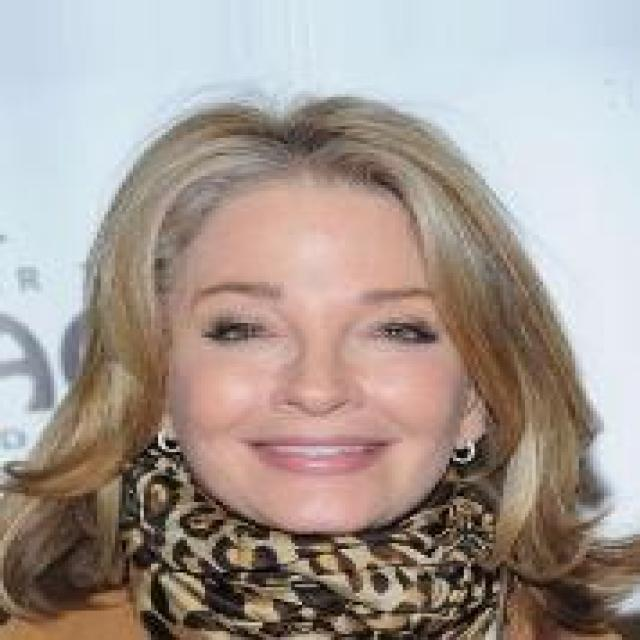bareface: (116, 122, 490, 542)
